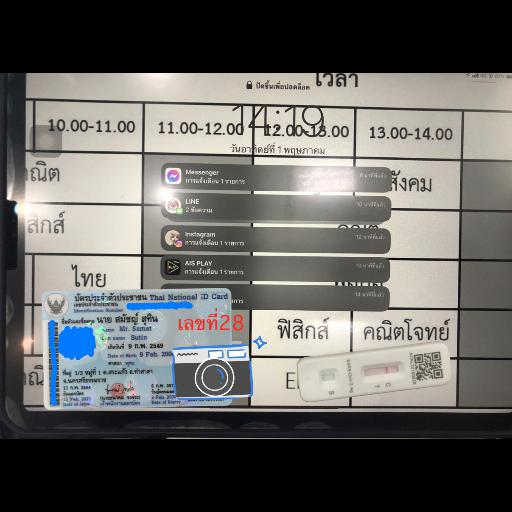Neg: (296, 341, 452, 401)
